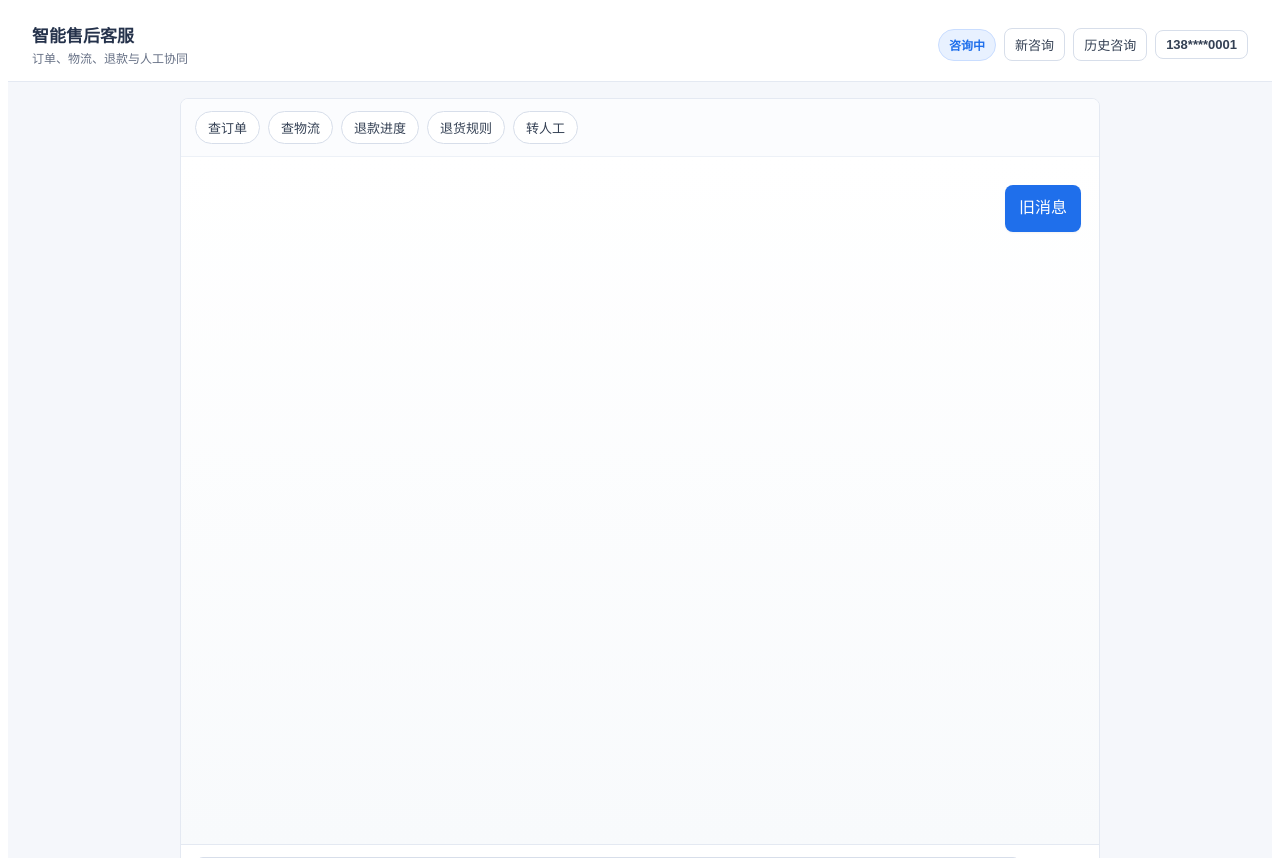
ChatView › 点击新咨询后清空当前视图但保留账户
Click the button with test id "new-consultation".
click(1035, 44)  # box [1004, 28, 1065, 61]
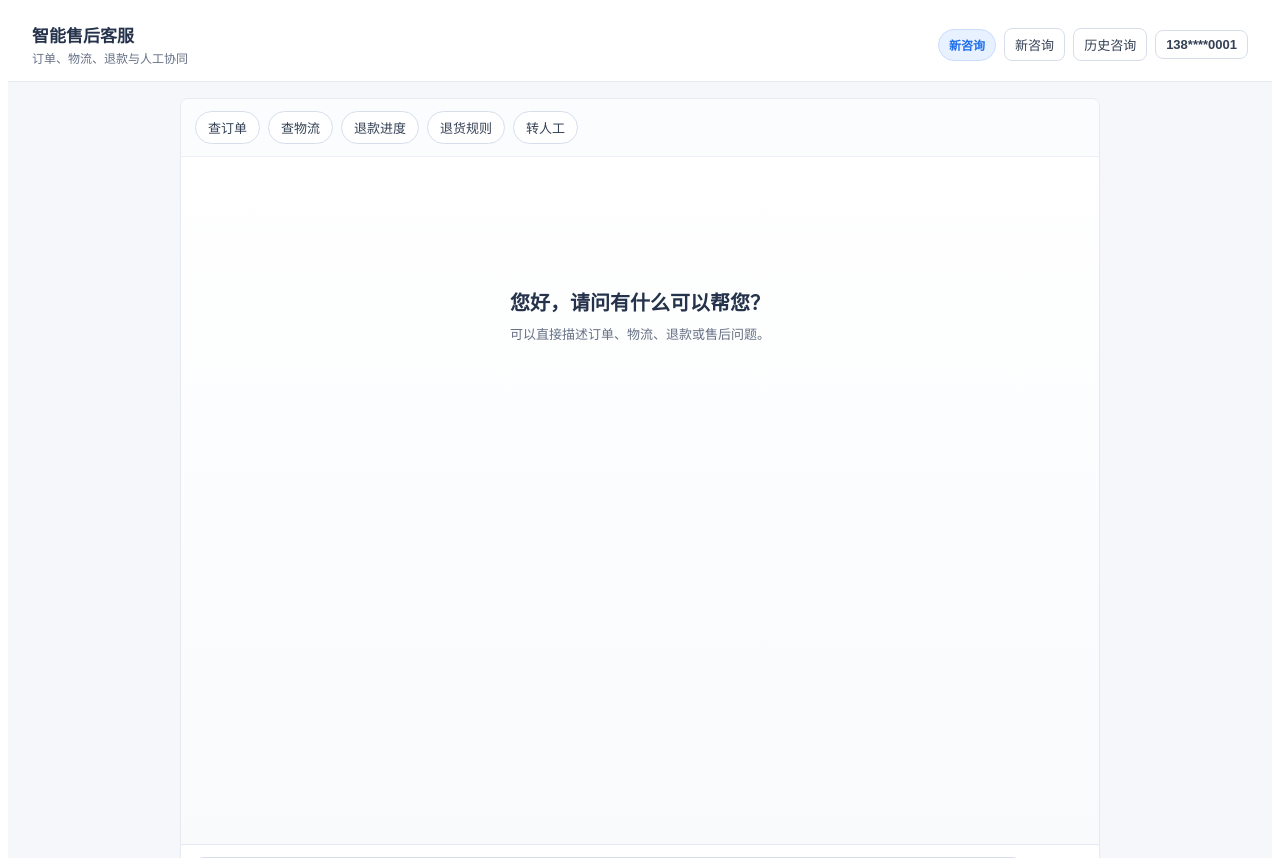
Expected: the text "138****0001" is shown, [1155, 30, 1248, 59]
Expected: the text "旧消息" is gone
Expected: the text "您好，请问有什么可以帮您？" is shown, [510, 287, 770, 316]
